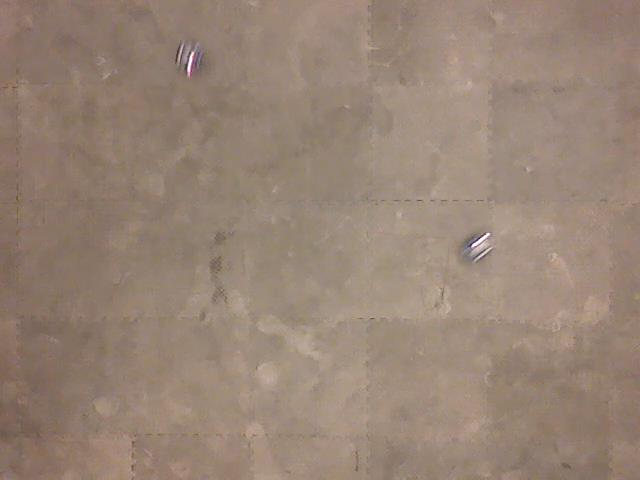Agent: (174, 37, 207, 80), (457, 229, 497, 264)
